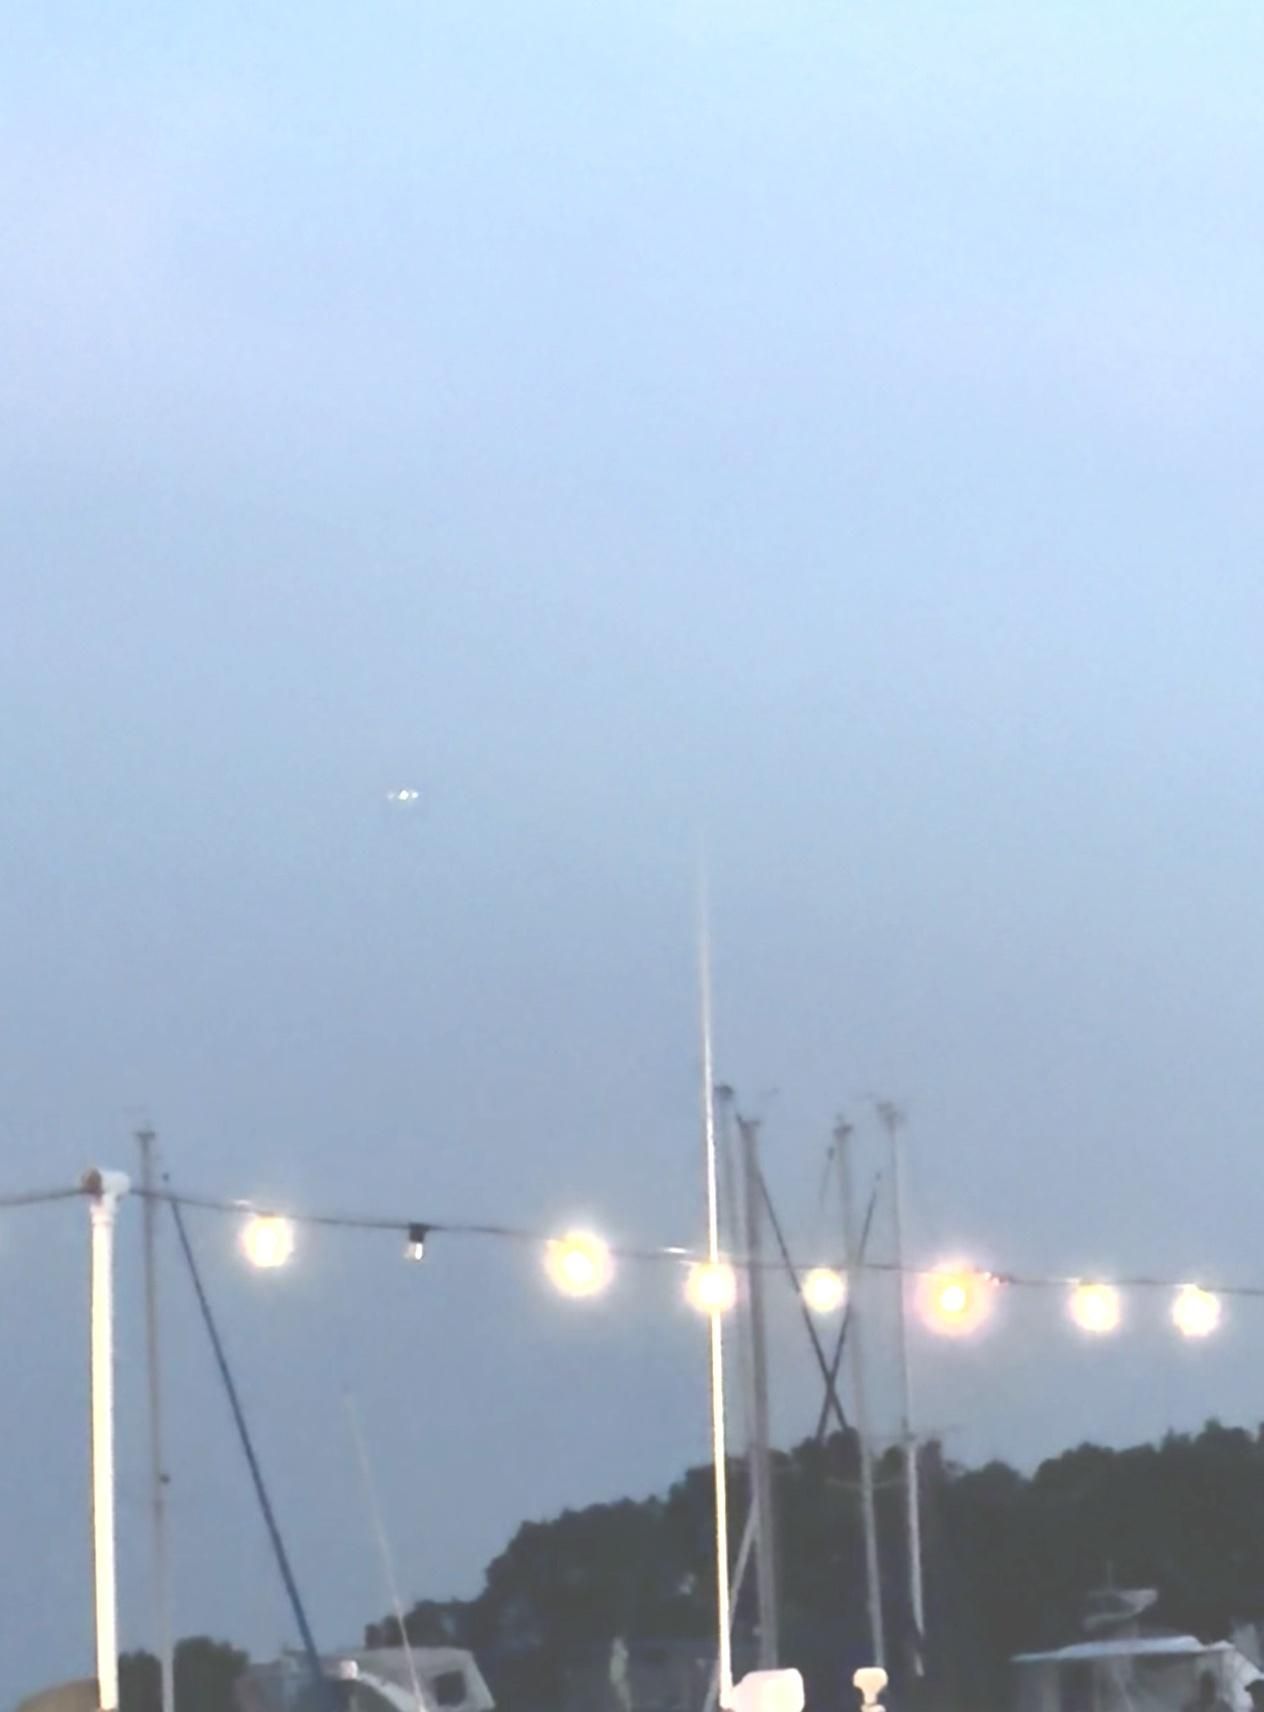Plane: (366, 767, 449, 813)
